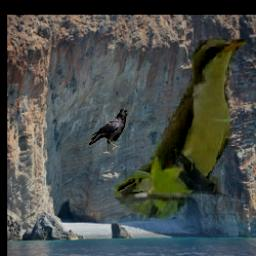Crow: (88, 107, 131, 154)
Cuckoo: (116, 34, 248, 220)
